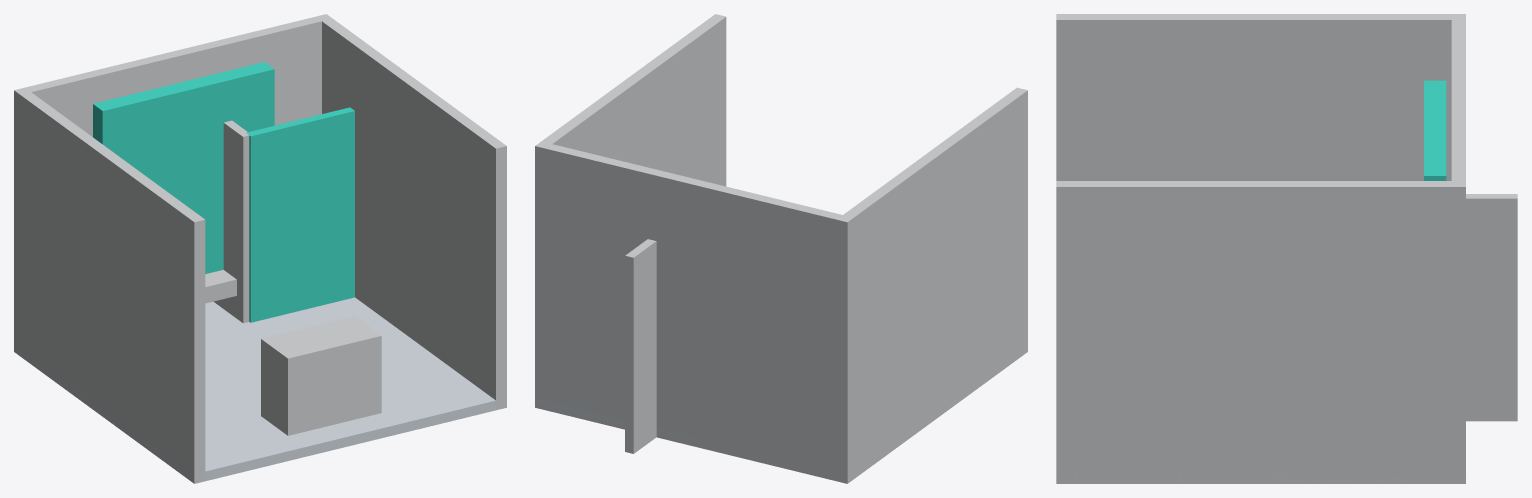
3 renders of one model, left to right at view 1: azimuth 30°, elevation 25°; view 2: azimuth 150°, elevation 25°; view 3: azimuth 270°, elevation 25°, orthographic. The views are drawn at different scales.
Visible parts, largest first — view 1: Exhibition Booth Concept; view 2: Exhibition Booth Concept; view 3: Exhibition Booth Concept.
Boxes of the visible parts, <box> form: Exhibition Booth Concept: <box>14,14,506,483</box>; Exhibition Booth Concept: <box>535,14,1027,483</box>; Exhibition Booth Concept: <box>1056,14,1517,483</box>.
Size of the model in its own units: 4 by 3.2 by 4.51.
